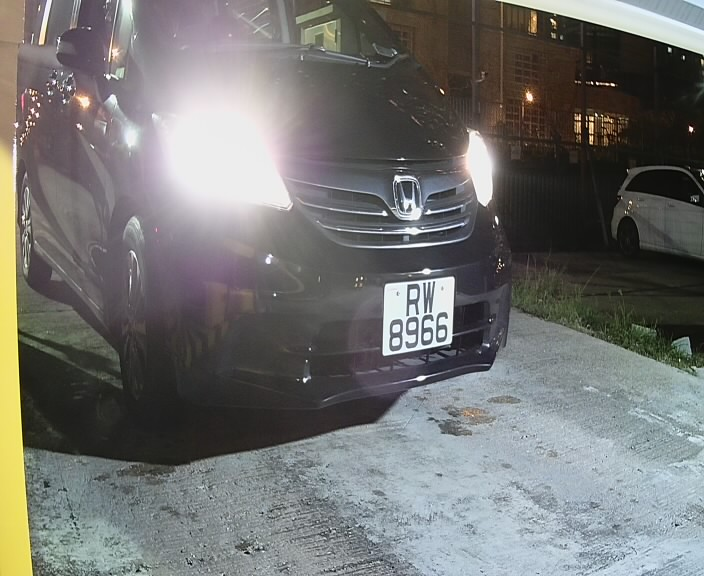Car: (35, 2, 530, 469)
License Plate: (379, 267, 460, 369)
